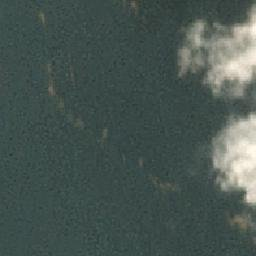cloud: (175, 7, 256, 97), (206, 108, 256, 206)
debris: (46, 58, 56, 96), (229, 214, 251, 231), (60, 112, 82, 129), (152, 181, 177, 192), (135, 156, 144, 170)
